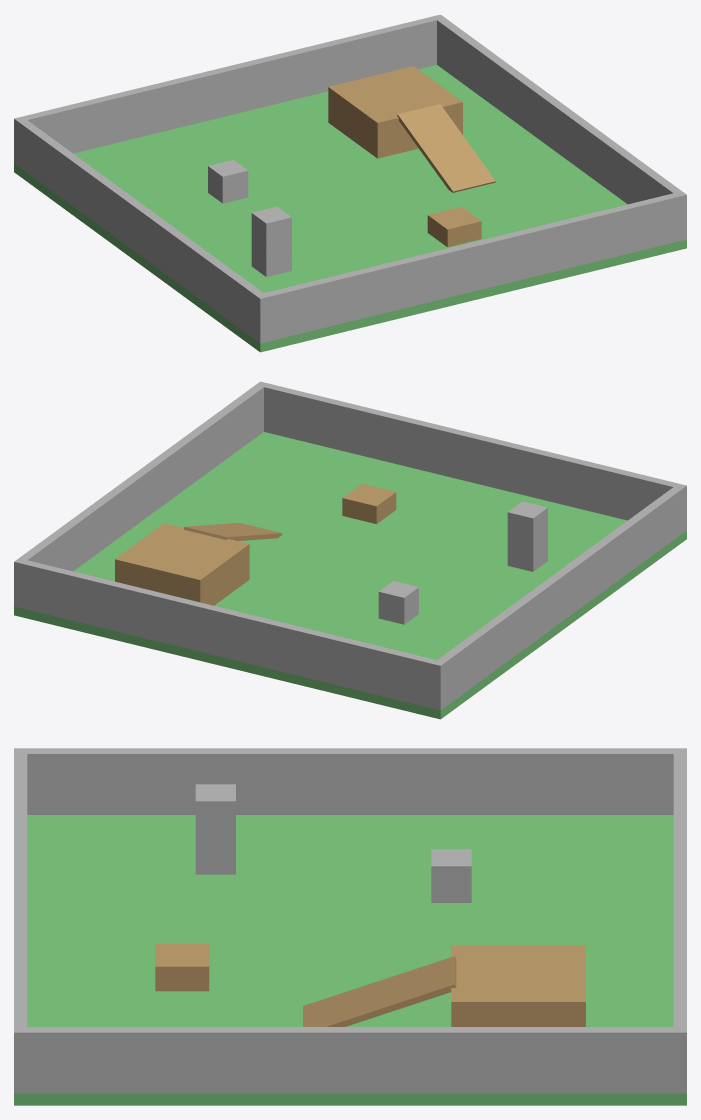
File: basic_map.fbx
The picture shows the model from 3 angles, top to bottom: view 1: azimuth 30°, elevation 25°; view 2: azimuth 150°, elevation 25°; view 3: azimuth 270°, elevation 25°; orthographic projection. The views are drawn at different scales.
Visible parts, largest first — view 1: Ground, WallS, WallN, WallW, WallE, Platform, Ramp, Block2, Block3, Block1; view 2: Ground, WallN, WallS, WallW, WallE, Platform, Block2, Block3, Block1, Ramp; view 3: Ground, WallE, WallW, Platform, Ramp, WallN, WallS, Block2, Block3, Block1.
Boxes of the visible parts, box(x1,y1,x2,y2) form: Ground: box(14, 65, 686, 352); WallS: box(255, 191, 686, 343); WallN: box(14, 14, 444, 166); WallW: box(19, 120, 263, 339); WallE: box(437, 18, 681, 204); Platform: box(328, 66, 462, 158); Ramp: box(397, 104, 495, 192); Block2: box(251, 206, 291, 276); Block3: box(427, 207, 481, 247); Block1: box(208, 160, 248, 203); Ground: box(14, 432, 686, 719); WallN: box(14, 558, 445, 710); WallS: box(256, 381, 686, 533); WallW: box(437, 487, 681, 706); WallE: box(19, 385, 263, 571); Platform: box(115, 523, 249, 605); Block2: box(507, 501, 547, 571); Block3: box(342, 483, 396, 523); Block1: box(378, 581, 418, 624); Ramp: box(184, 522, 282, 540); Ground: box(14, 815, 686, 1105); WallE: box(27, 1027, 673, 1093); WallW: box(27, 748, 673, 814); Platform: box(451, 945, 585, 1026); Ramp: box(303, 956, 456, 1026); WallN: box(673, 748, 686, 1093); WallS: box(14, 748, 27, 1093); Block2: box(195, 784, 235, 874); Block3: box(155, 944, 209, 991); Block1: box(431, 849, 471, 902).
Size of the model in its own units: 100 by 14 by 100.
